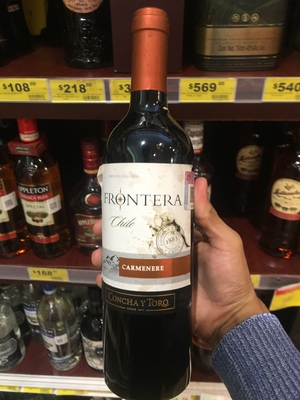frontera carmenere: (94, 16, 207, 393)
